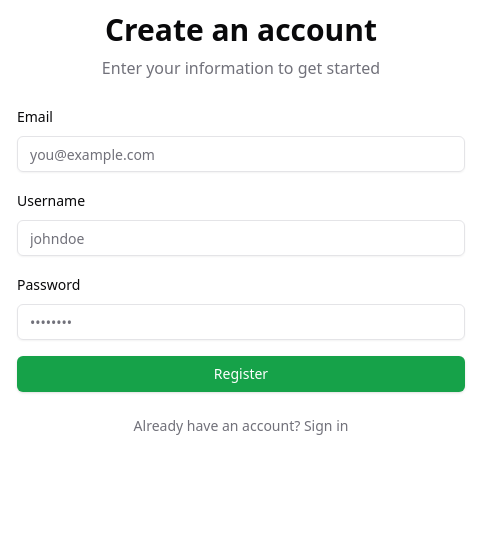
Test: RegisterForm › shows validation error for short username
Type "ab" into the field labelled "Username". click: x=241, y=238
box: [17,220,465,256]
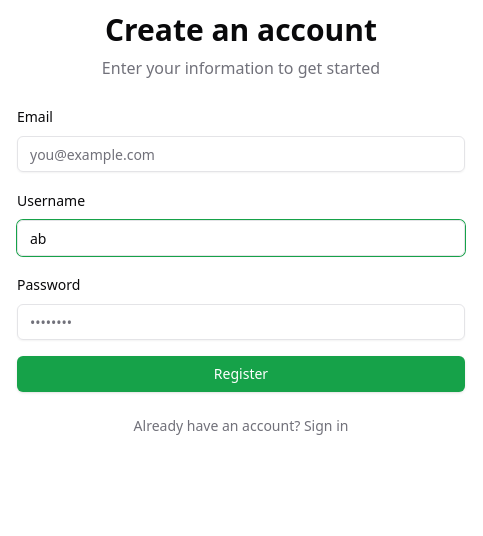
Click the button "Register". click: x=241, y=374
box: [17,356,465,392]
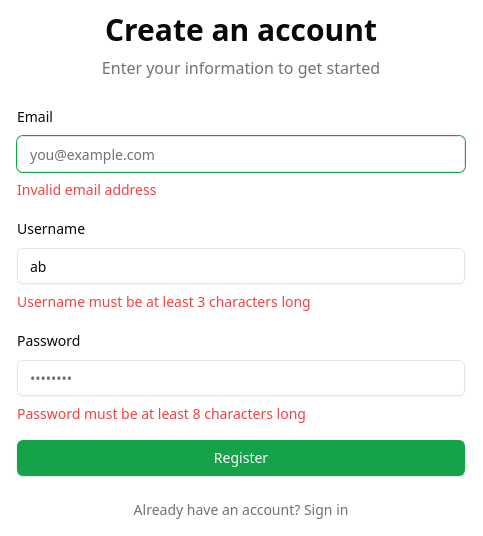
Check: the text "Username must be at least 3 characters long" is shown, box [17,292,311,311]
